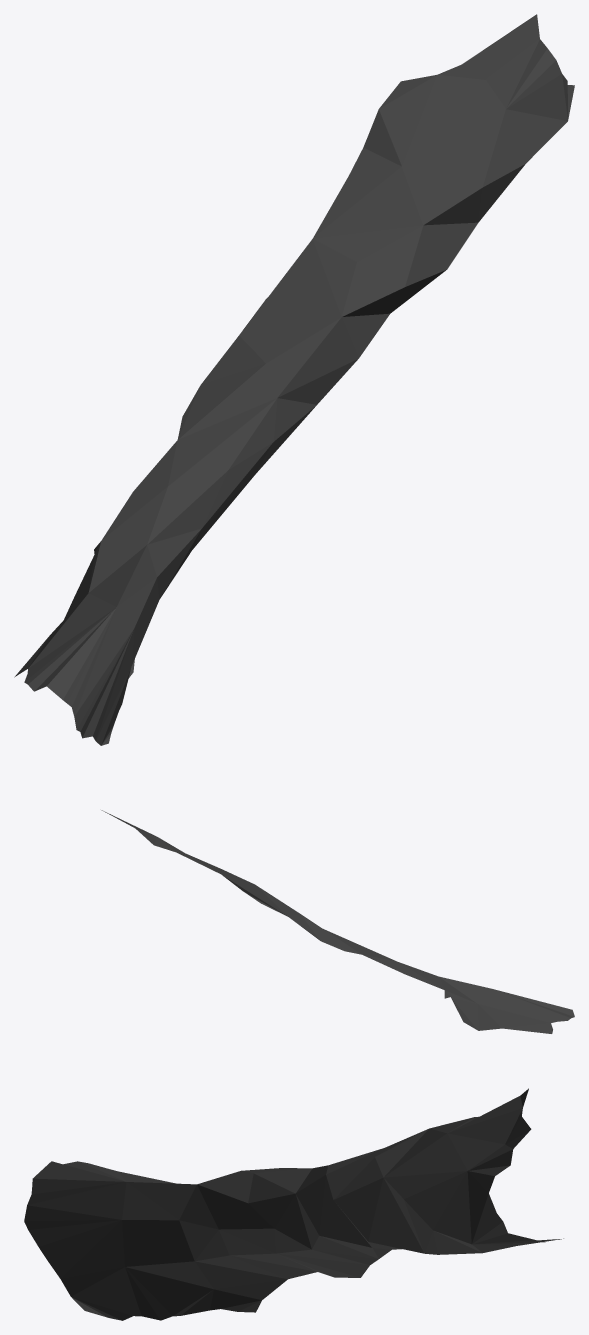
The model's file is A_iliac_internal_L_A_iliac_internal_L.glb.
3 renders of one model, top to bottom at view 1: azimuth 30°, elevation 25°; view 2: azimuth 150°, elevation 25°; view 3: azimuth 270°, elevation 25°, orthographic. The views are drawn at different scales.
Visible parts, largest first — view 1: A_iliac_internal_L_A_iliac_internal_L; view 2: A_iliac_internal_L_A_iliac_internal_L; view 3: A_iliac_internal_L_A_iliac_internal_L.
Part boxes in pixels (box(x1,y1,x2,y2)): A_iliac_internal_L_A_iliac_internal_L: box(14, 14, 574, 745); A_iliac_internal_L_A_iliac_internal_L: box(101, 810, 574, 1033); A_iliac_internal_L_A_iliac_internal_L: box(24, 1088, 563, 1320).
Bounding box in the file's own units: 0.0148 × 0.00871 × 0.00782.
1 material, 1 textured.
